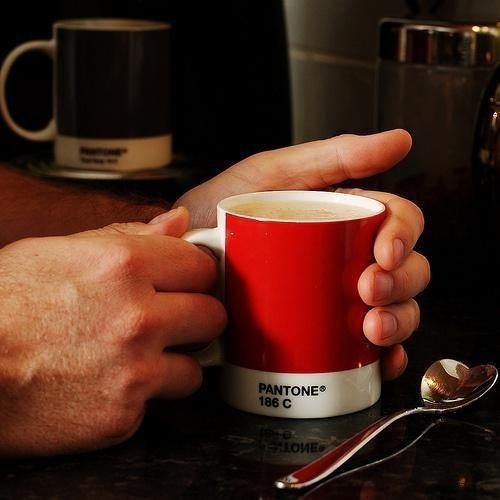cup-handle: (179, 186, 390, 419), (1, 15, 174, 176)
